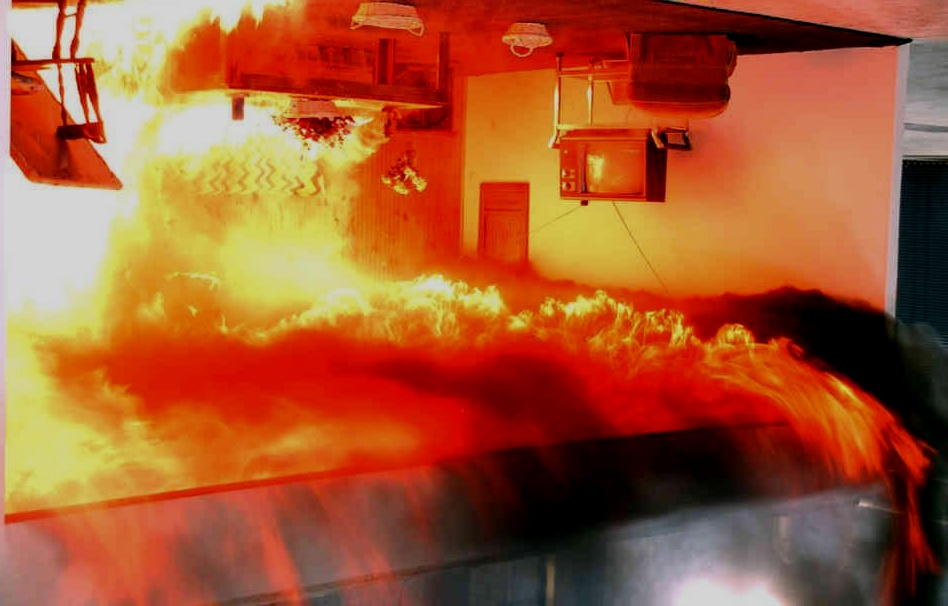fire: (0, 68, 335, 469), (407, 286, 911, 489)
